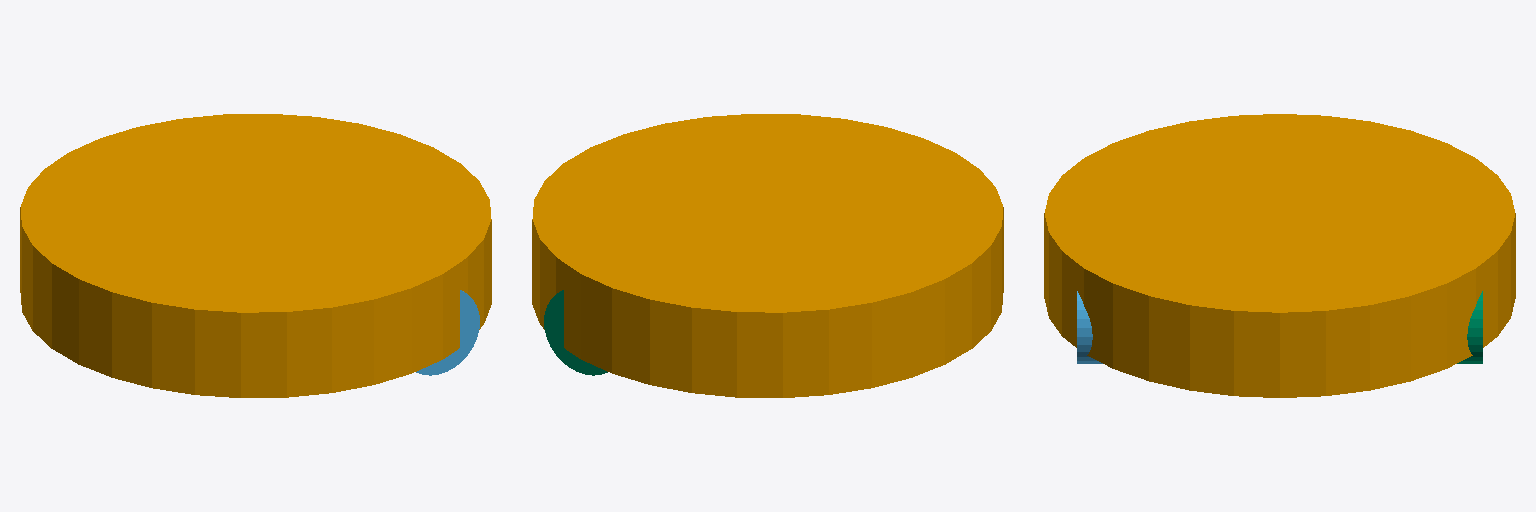
The robot description file, URDF, robot "mon_premier_robot":
<?xml version ="1.0"?>
<robot name="mon_premier_robot">

<!-- TACHE 06 : CREER UN MATERIAU NOIR-->

<!-- FIN DE LA TACHE -->

    <link name="base_link">
        <visual>
            <geometry>
<!-- TACHE 06 : REMPLACER LE MODELE VISUEL du BASE_LINK pour un VOLUME MAILLE-->
                <cylinder radius="0.25" length="0.1" />
<!-- FIN DE LA TACHE -->
            </geometry>
        </visual>
    </link>


    <link name="right_wheel">
        <visual>
            <geometry>
                <cylinder radius="0.05" length="0.03" />
            </geometry>
            <origin rpy="1.57075 0.0 0.0"/>
<!-- TACHE 06 : UTILISER LE MATERIAU NOIR SUR CETTE ROUE-->

<!-- FIN DE LA TACHE -->
        </visual>
    </link>

    <joint name="right_wheel_joint" type="continuous">
        <parent link="base_link"/>
        <child link="right_wheel"/>
        <origin xyz="0.1 -0.2 -0.025"/>
        <axis xyz="0.0 1.0 0.0"/>
    </joint>    

    <link name="left_wheel">
        <visual>
            <geometry>
                <cylinder radius="0.05" length="0.03" />
            </geometry>
            <origin rpy="1.57075 0.0 0.0"/>
<!-- TACHE 06 : UTILISER LE MATERIAU NOIR SUR CETTE ROUE-->

<!-- FIN DE LA TACHE -->
        </visual>
    </link>

    <joint name="left_wheel_joint" type="continuous">
        <parent link="base_link"/>
        <child link="left_wheel"/>
        <origin xyz="0.1 0.2 -0.025"/>
        <axis xyz="0.0 1.0 0.0"/>
    </joint>    

    <link name="crazy_wheel_support"/>

    <joint name="crazy_wheel_support_joint" type="continuous">
        <parent link="base_link"/>
        <child link="crazy_wheel_support"/>
        <origin xyz="-0.2 0.0 -0.05"/>
        <axis xyz="0.0 0.0 1.0"/>
    </joint>    

    <link name="crazy_wheel">
        <visual>
            <geometry>
                <cylinder radius="0.025" length="0.02" />
            </geometry>
            <origin rpy="1.57075 0.0 0.0"/>
<!-- TACHE 06 : UTILISER LE MATERIAU NOIR SUR CETTE ROUE-->

<!-- FIN DE LA TACHE -->
        </visual>
    </link>

    <joint name="crazy_wheel_joint" type="continuous">
        <parent link="crazy_wheel_support"/>
        <child link="crazy_wheel"/>
        <origin xyz="0.0 0.0 0.0"/>
        <axis xyz="0.0 1.0 0.0"/>
    </joint>    

</robot>

--- What the picture shows (computed from the rendered views, not written in the file) ---
3 views of the same robot in one strip: view 1: azimuth 30°, elevation 25°; view 2: azimuth 150°, elevation 25°; view 3: azimuth 270°, elevation 25° (orthographic).
Robot: mon_premier_robot — 5 links, 4 joints (4 continuous); root link base_link; default pose: every joint at zero.
Visible links, largest first — view 1: base_link, right_wheel; view 2: base_link, left_wheel; view 3: base_link, right_wheel, left_wheel.
Link boxes in pixels (x1,y1,x2,y2): base_link: (20, 114, 491, 397); right_wheel: (416, 290, 479, 375); base_link: (532, 114, 1003, 397); left_wheel: (544, 290, 607, 375); base_link: (1044, 114, 1515, 397); right_wheel: (1077, 291, 1102, 363); left_wheel: (1457, 291, 1482, 363).
Bounding box of the posed robot: 0.5 × 0.5 × 0.125 m (x, y, z).
Geometry: primitives only (box / cylinder / sphere), no mesh files.